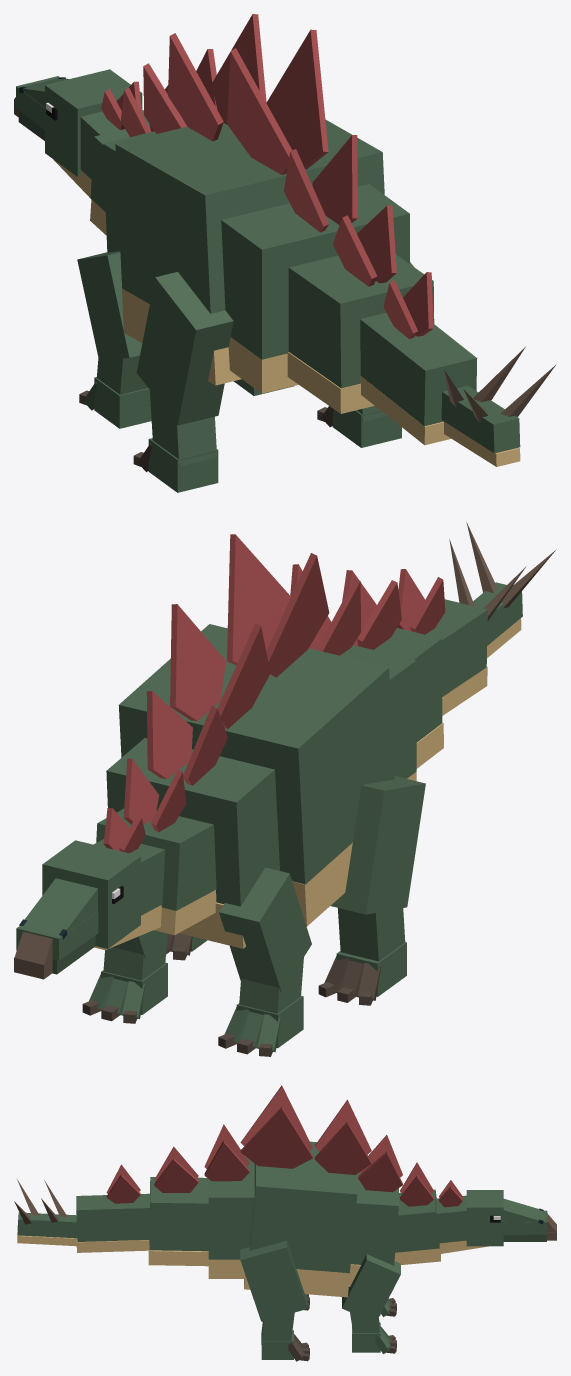
Rendered from stegosaurus_2.obj.
The picture shows the model from 3 angles, top to bottom: view 1: azimuth 30°, elevation 25°; view 2: azimuth 150°, elevation 25°; view 3: azimuth 270°, elevation 25°; orthographic projection. The views are drawn at different scales.
Parts seen in each view (by area): view 1: torso, tail01, tail02, leg_L, head, tail03, arm_L, leg_L_lower, leg_L_hand, neck, neck1, arm_L_Hand (+2 smaller); view 2: torso, head, neck, leg_L, arm_L, tail02, tail01, tail03, neck1, leg_L_hand, arm_L_Hand, arm_R_Hand (+6 smaller); view 3: torso, tail01, tail02, leg_R, head, neck, arm_R, tail03, neck1, leg_R_hand, arm_R_Hand, leg_R_lower (+2 smaller).
Boxes of the visible parts, bbox=[...] form: torso: bbox=[103, 14, 409, 393]; tail01: bbox=[287, 205, 434, 413]; tail02: bbox=[360, 272, 477, 445]; leg_L: bbox=[136, 272, 233, 425]; head: bbox=[14, 69, 142, 176]; tail03: bbox=[441, 346, 555, 466]; arm_L: bbox=[77, 251, 142, 360]; leg_L_lower: bbox=[150, 390, 216, 466]; leg_L_hand: bbox=[133, 438, 218, 492]; neck: bbox=[90, 85, 168, 235]; neck1: bbox=[53, 81, 148, 198]; arm_L_Hand: bbox=[79, 377, 151, 428]; torso: bbox=[106, 534, 416, 948]; head: bbox=[14, 840, 140, 964]; neck: bbox=[96, 758, 216, 935]; leg_L: bbox=[330, 776, 425, 914]; arm_L: bbox=[219, 867, 311, 992]; tail02: bbox=[397, 569, 487, 715]; tail01: bbox=[342, 570, 443, 768]; tail03: bbox=[449, 522, 556, 657]; neck1: bbox=[93, 808, 165, 950]; leg_L_hand: bbox=[318, 942, 406, 1005]; arm_L_Hand: bbox=[218, 995, 303, 1056]; arm_R_Hand: bbox=[82, 962, 167, 1023]; torso: bbox=[204, 1085, 402, 1297]; tail01: bbox=[148, 1146, 208, 1266]; tail02: bbox=[76, 1164, 149, 1252]; leg_R: bbox=[240, 1240, 307, 1321]; head: bbox=[466, 1190, 556, 1246]; neck: bbox=[394, 1162, 440, 1264]; arm_R: bbox=[342, 1254, 400, 1322]; tail03: bbox=[14, 1178, 77, 1246]; neck1: bbox=[436, 1180, 488, 1253]; leg_R_hand: bbox=[261, 1330, 309, 1361]; arm_R_Hand: bbox=[352, 1322, 396, 1353]; leg_R_lower: bbox=[261, 1312, 294, 1344].
Size of the model in its own units: 4.62 by 7.81 by 16.38.
